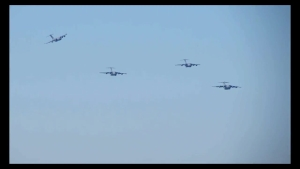flight: (99, 66, 128, 77), (212, 81, 242, 91), (174, 58, 201, 69), (44, 33, 68, 44)
